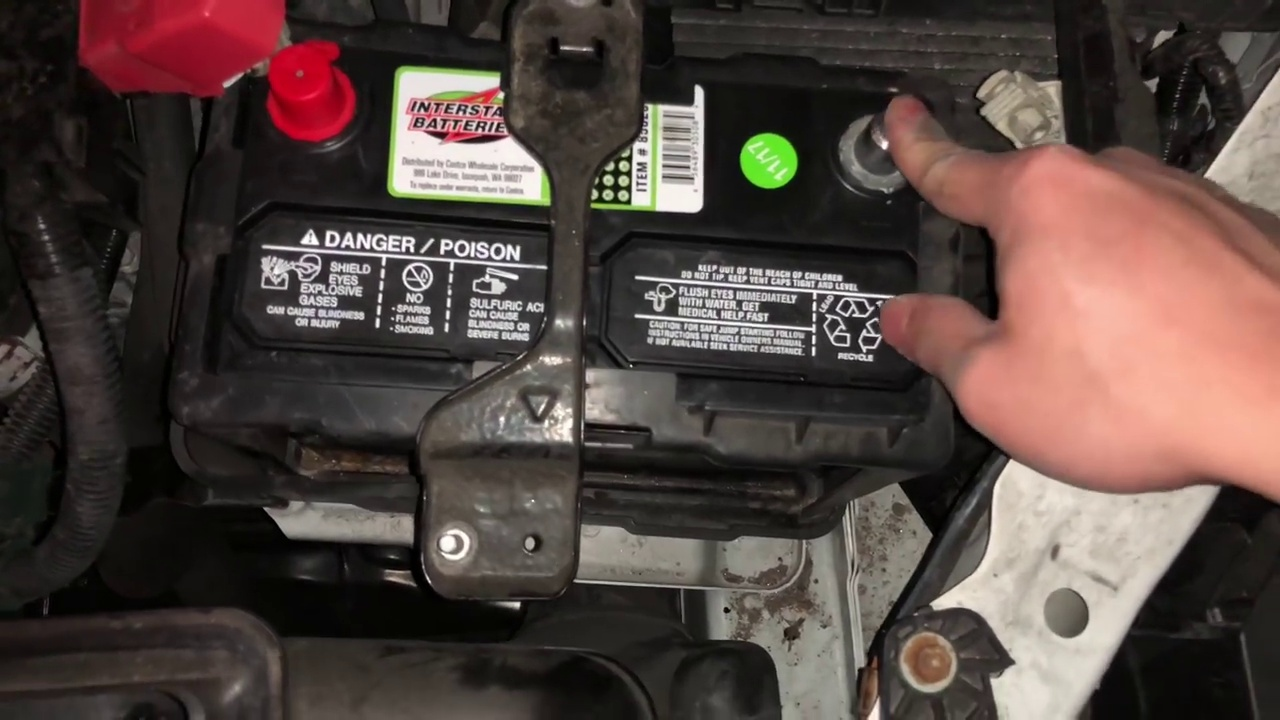battery: (223, 17, 935, 417)
neg_touched: (822, 78, 994, 235)
pos_disconnected: (86, 1, 388, 139)
